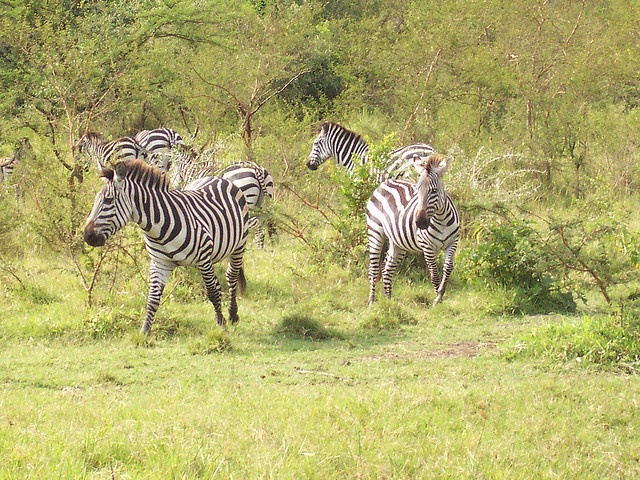zebra: (165, 246, 333, 417), (412, 231, 511, 383), (372, 158, 505, 232), (247, 207, 306, 299), (112, 157, 188, 210), (166, 147, 230, 188)
